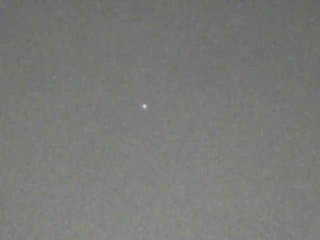Target: (143, 105, 147, 109)
